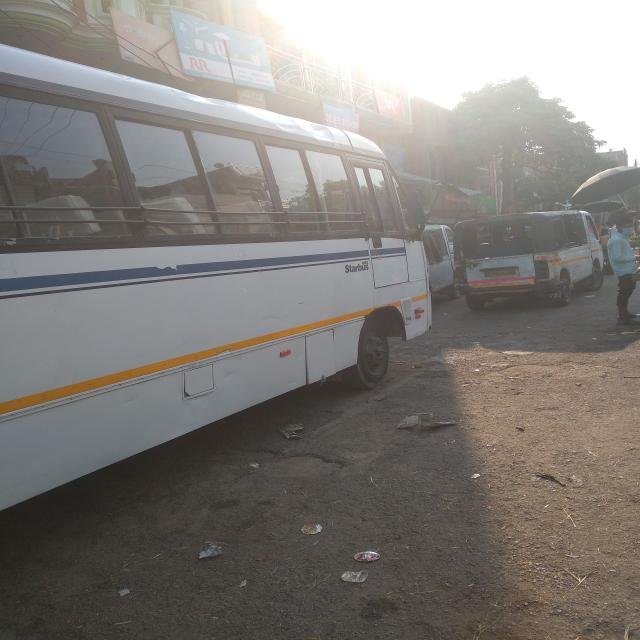Bus: (0, 41, 448, 543)
tempo: (447, 196, 615, 308), (414, 220, 467, 298)
